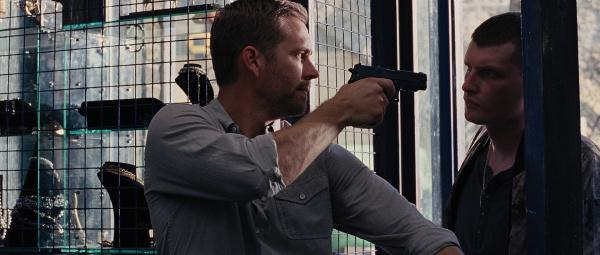Gun: (350, 65, 426, 97)
